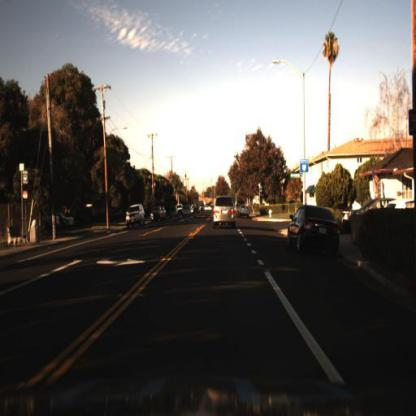car: (282, 202, 345, 263), (207, 191, 241, 231), (349, 196, 388, 220), (124, 198, 149, 232), (123, 202, 146, 227), (150, 206, 167, 227), (55, 213, 75, 229), (231, 199, 244, 217), (182, 205, 192, 221), (163, 203, 170, 224), (176, 203, 184, 221)
